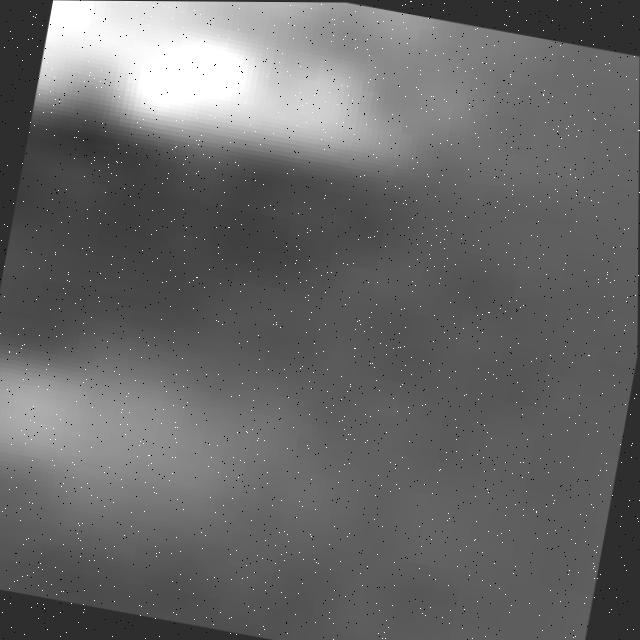person: (31, 1, 456, 187), (1, 301, 266, 583)
